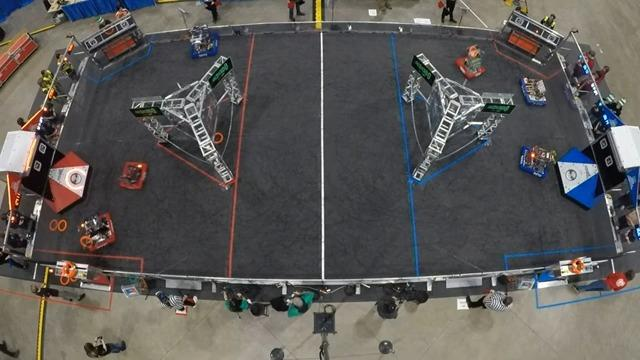robot: (513, 64, 552, 109), (116, 152, 151, 192), (79, 217, 117, 253), (520, 142, 552, 181), (457, 43, 489, 78), (190, 25, 222, 59)
